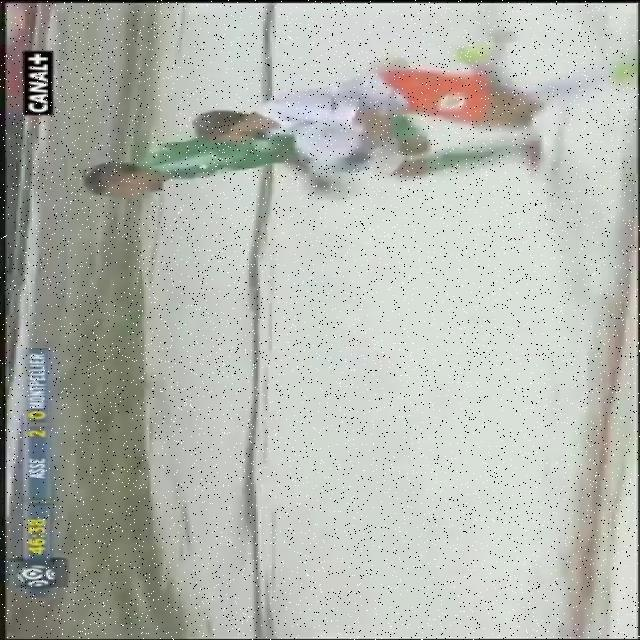player: (166, 28, 586, 151), (54, 117, 578, 215)
